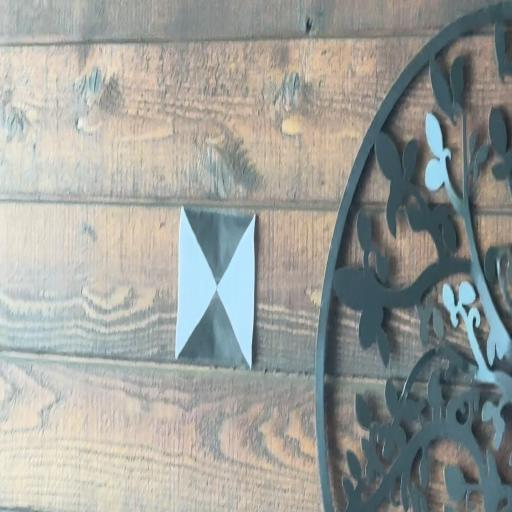target: (174, 205, 256, 369)
